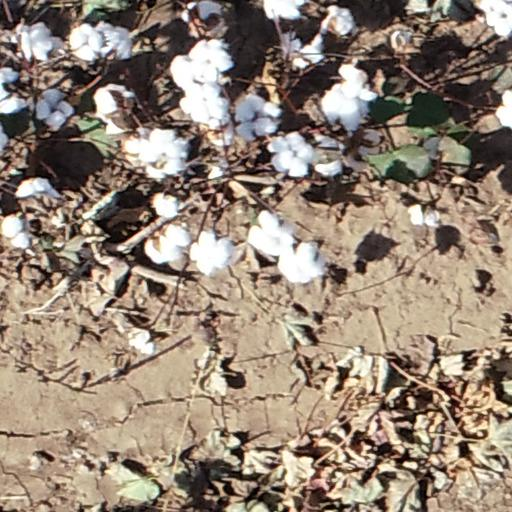Boll: (233, 95, 282, 135), (248, 211, 291, 254), (144, 133, 187, 176), (190, 231, 233, 273), (183, 86, 228, 126), (95, 85, 132, 131), (280, 242, 323, 281), (147, 223, 188, 263), (325, 89, 365, 130), (271, 135, 310, 173), (194, 42, 232, 79), (97, 22, 132, 60), (19, 25, 58, 59), (69, 25, 103, 62), (36, 89, 70, 126), (1, 70, 30, 112), (340, 66, 373, 100), (480, 2, 510, 37), (19, 182, 58, 208), (125, 130, 152, 167), (289, 36, 322, 66), (323, 8, 355, 33), (4, 218, 31, 246), (132, 330, 157, 360), (173, 57, 196, 87), (409, 207, 442, 226), (267, 1, 304, 16), (154, 194, 178, 217), (497, 90, 512, 123)
